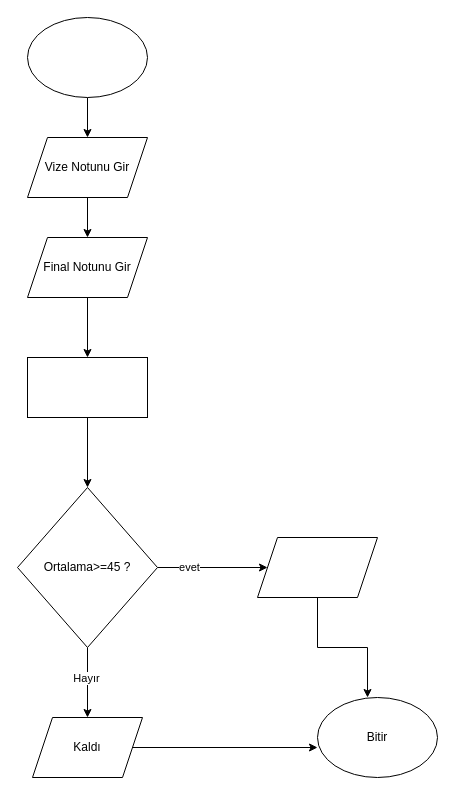
Image size: 455x795. Some labels were removed from this diagram. Here are the shapes that lost their labels. From the top down, the centre of each, then its label:
point (87, 57): Başla
point (87, 387): Ortalama= (Vize * 0.4) + (Final * 0.6)
point (317, 567): Geçti
